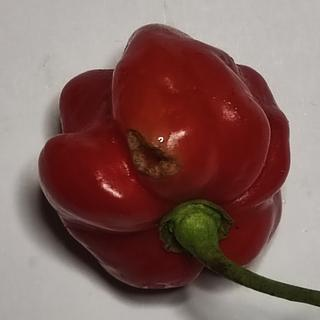Defect: (120, 120, 189, 183)
